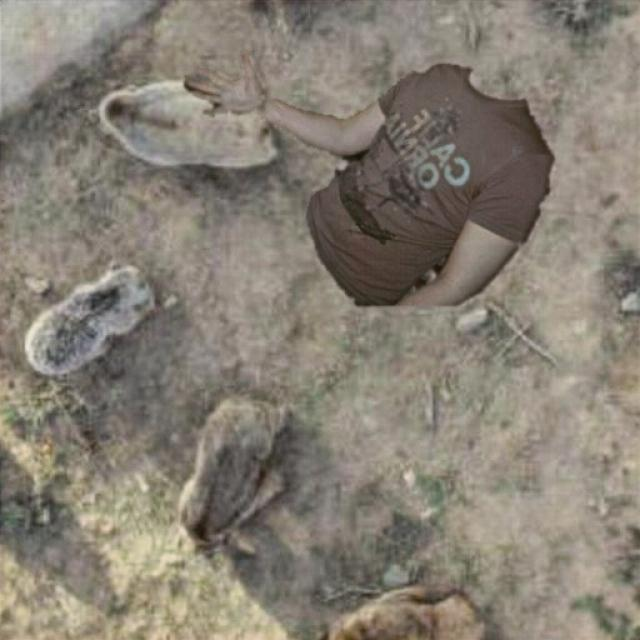Person in Rubble: (184, 55, 554, 305)
